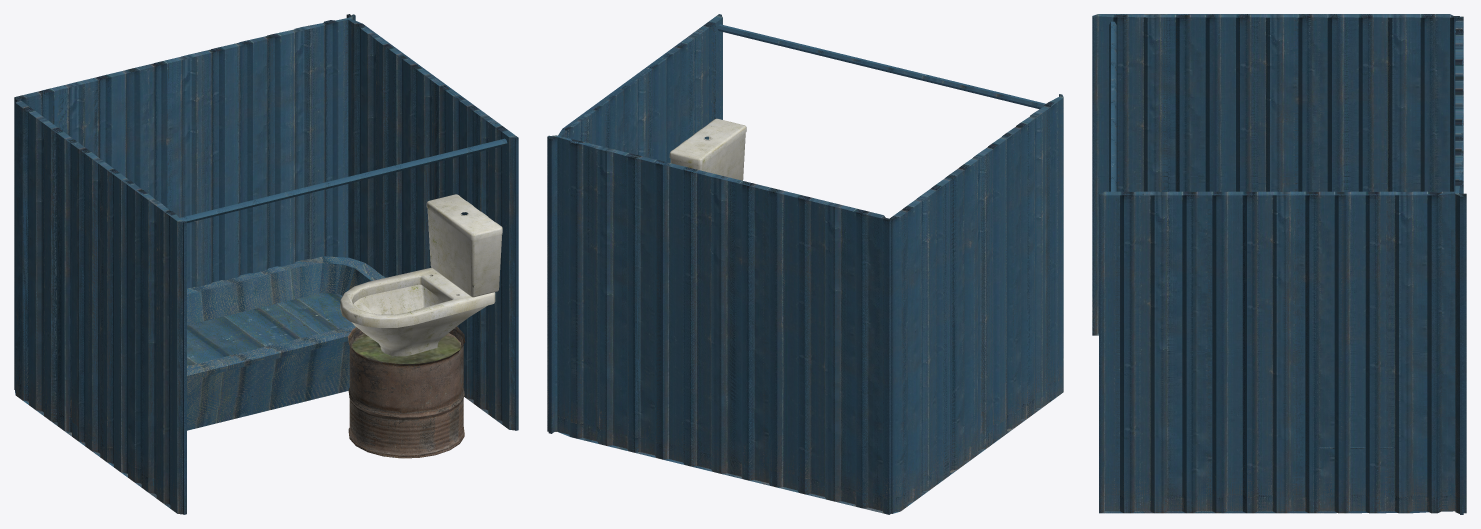
The model's file is Bathroom.fbx.
3 views of the same model, side by side, from view 1: azimuth 30°, elevation 25°; view 2: azimuth 150°, elevation 25°; view 3: azimuth 270°, elevation 25° (orthographic). The views are drawn at different scales.
Visible parts, largest first — view 1: Group1; view 2: Group1; view 3: Group1.
Part boxes in pixels (x1,y1,x2,y2): Group1: (14, 14, 518, 514); Group1: (547, 14, 1063, 514); Group1: (1092, 14, 1466, 514).
Size of the model in its own units: 73.34 by 60.87 by 63.48.
